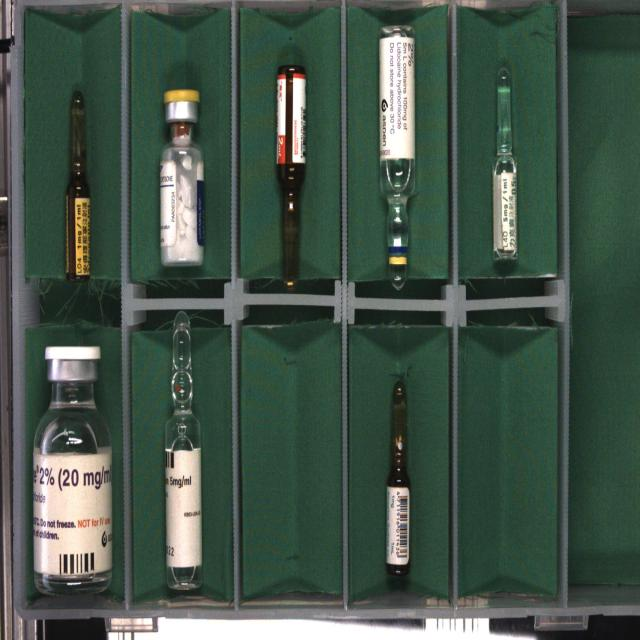Vials: (33, 346, 111, 593), (160, 90, 203, 265)
